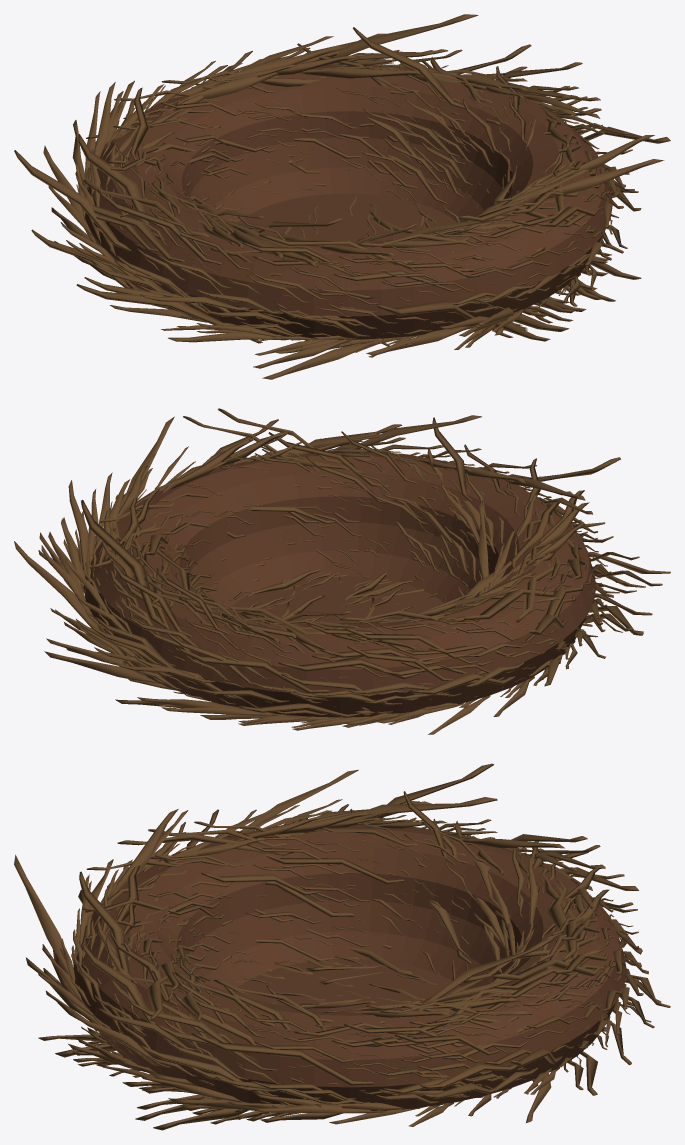
The model's file is гнездо2.fbx.
3 views of the same model, one above another, from view 1: azimuth 30°, elevation 25°; view 2: azimuth 150°, elevation 25°; view 3: azimuth 270°, elevation 25° (orthographic). The views are drawn at different scales.
Parts seen in each view (by area): view 1: Torus|Cube|Dupli|1499, Torus; view 2: Torus|Cube|Dupli|1499, Torus; view 3: Torus|Cube|Dupli|1499, Torus.
Boxes of the visible parts, x1,y1,x2,y2 form: Torus|Cube|Dupli|1499: [14, 14, 670, 379]; Torus: [85, 64, 612, 339]; Torus|Cube|Dupli|1499: [14, 408, 670, 734]; Torus: [83, 451, 596, 717]; Torus|Cube|Dupli|1499: [14, 763, 670, 1130]; Torus: [73, 824, 626, 1110].
Bounding box in the file's own units: 313 × 82.09 × 297.
